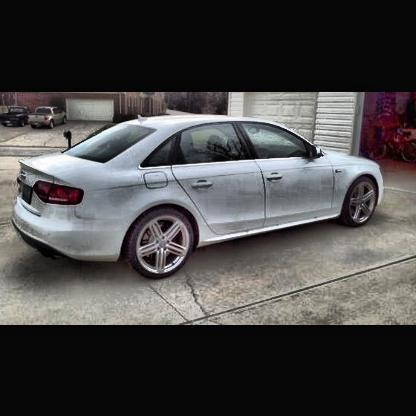Audi S4 Sedan 2012: (13, 115, 383, 282)
